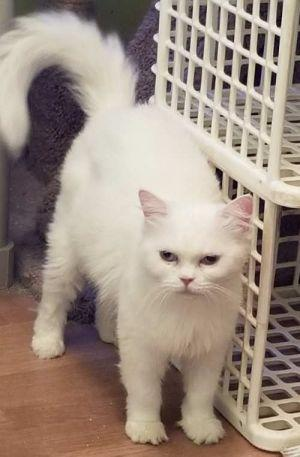persian: (125, 182, 263, 325)
